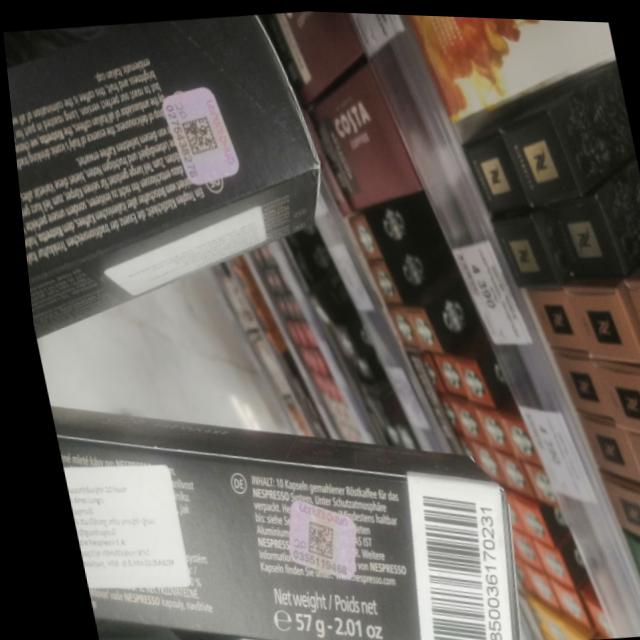datamatrix: (176, 113, 219, 159), (289, 516, 331, 562)
